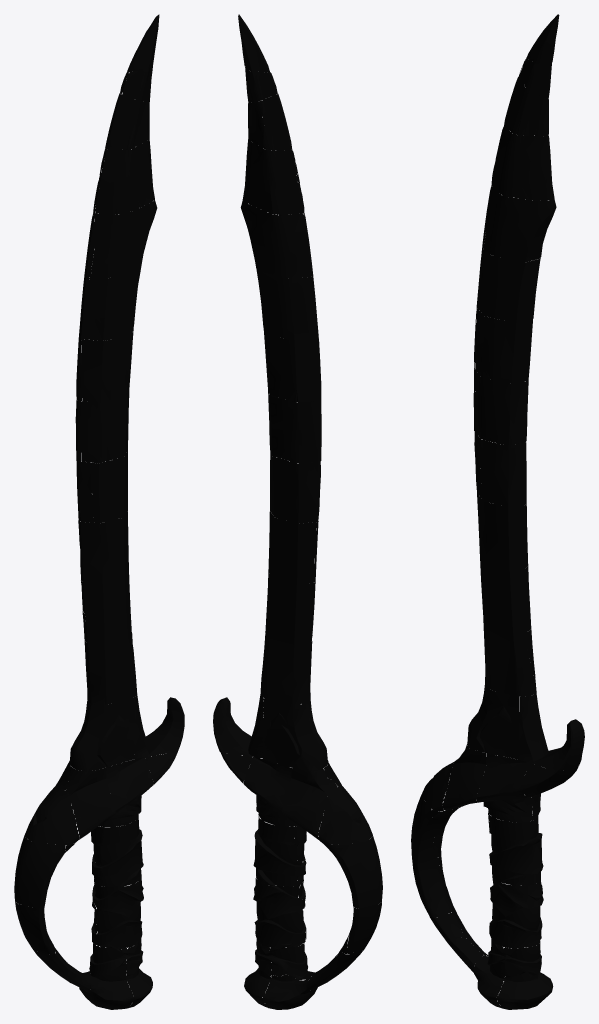
File: cinder_sabre.glb
3 views of the same model, side by side, from view 1: azimuth 30°, elevation 25°; view 2: azimuth 150°, elevation 25°; view 3: azimuth 330°, elevation 25° (orthographic). The views are drawn at different scales.
Parts seen in each view (by area): view 1: weapon; view 2: weapon; view 3: weapon.
Boxes of the visible parts, <box> form: weapon: <box>14,14,184,1009</box>; weapon: <box>213,14,382,1009</box>; weapon: <box>411,14,584,1009</box>.
Bounding box in the file's own units: 0.1637 × 0.92 × 0.0633.
1 material, 1 textured.
